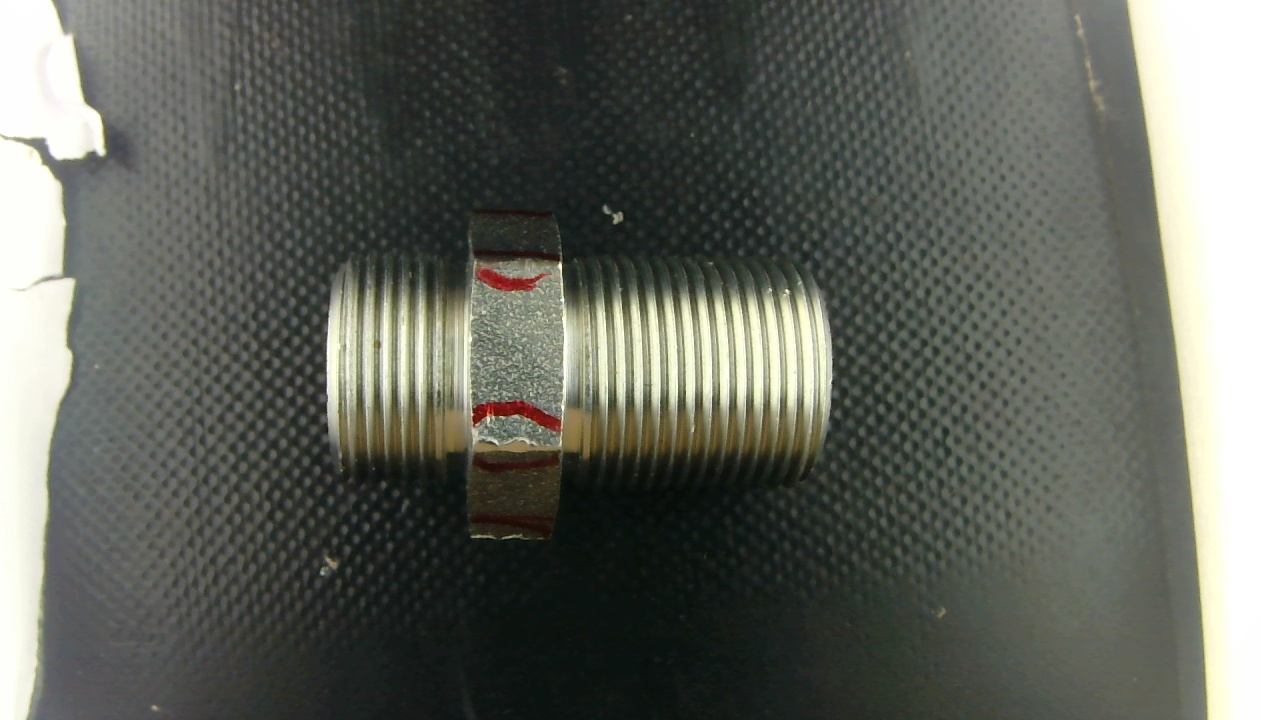Hex_damage: (472, 431, 559, 465)
